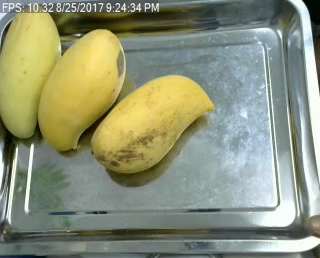Mango: (88, 72, 214, 177), (33, 25, 126, 154), (0, 2, 64, 137)
